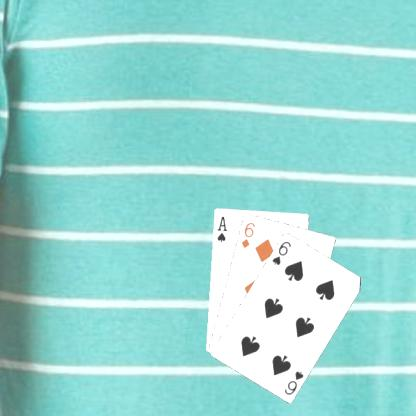6D: (238, 219, 257, 249)
6S: (282, 367, 305, 396), (270, 238, 292, 266)
AS: (214, 213, 228, 243)
